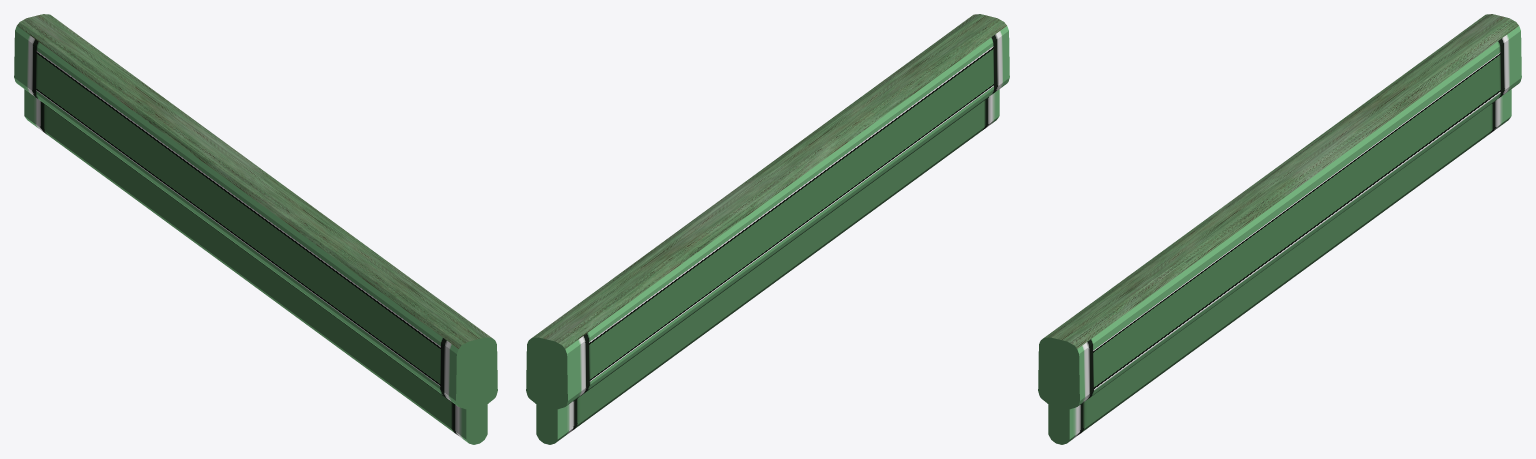
File: SM_R_Dancheong_23.fbx
The picture shows the model from 3 angles, left to right: view 1: azimuth 30°, elevation 25°; view 2: azimuth 150°, elevation 25°; view 3: azimuth 330°, elevation 25°; orthographic projection.
Visible parts, largest first — view 1: SM_R_Dancheong_23; view 2: SM_R_Dancheong_23; view 3: SM_R_Dancheong_23.
Part boxes in pixels (<box>): SM_R_Dancheong_23: <box>14,14,497,444</box>; SM_R_Dancheong_23: <box>526,14,1009,444</box>; SM_R_Dancheong_23: <box>1038,14,1521,444</box>.
Size of the model in its own units: 21.06 by 385 by 50.36.
2 materials, 2 textured.
